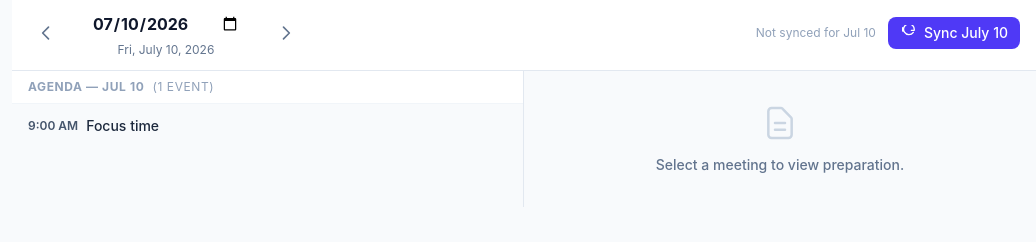
Scenario: MeetingsView › no-prep events remain visible in the list
The width and height of the screenshot is (1036, 242).
Click the heading "Focus time".
click(123, 126)  # box [86,116,159,136]
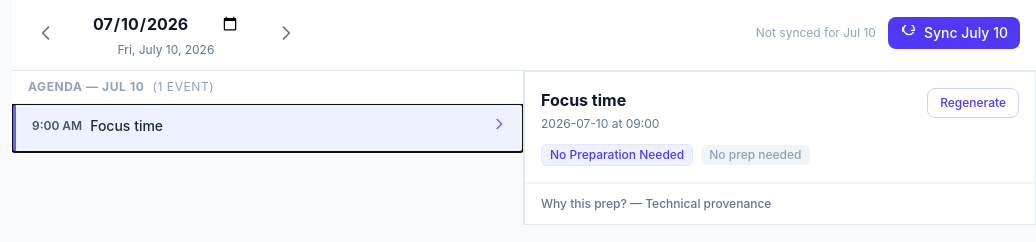
Expected: the text "No Preparation Needed" is shown, [541,144,693,166]
